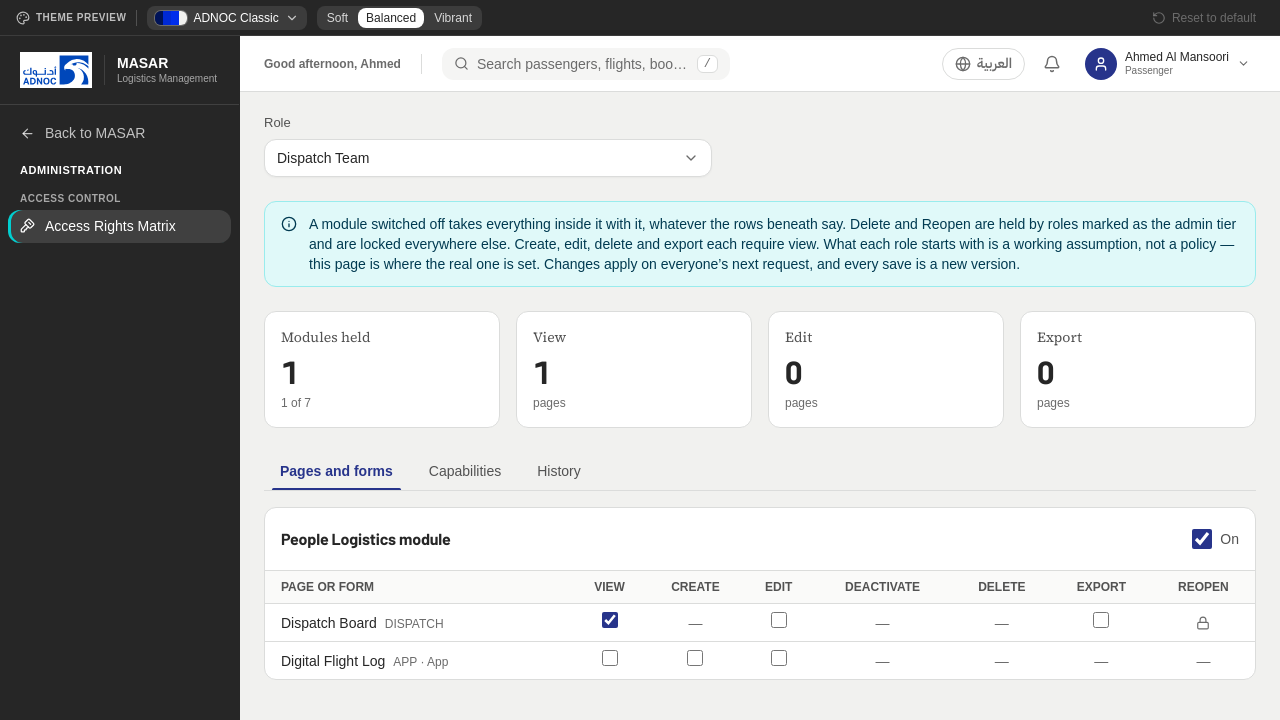
Test case: BRD-D.2.1.3-MST the Access Rights Matrix page (spec 10 §2.3) › PROMPT-2.7 any right brings View; a save sends the matrix version
(page scrolled)
Click the checkbox named "Edit: Digital Flight Log" at [779, 658], box 771,650 -> 787,666
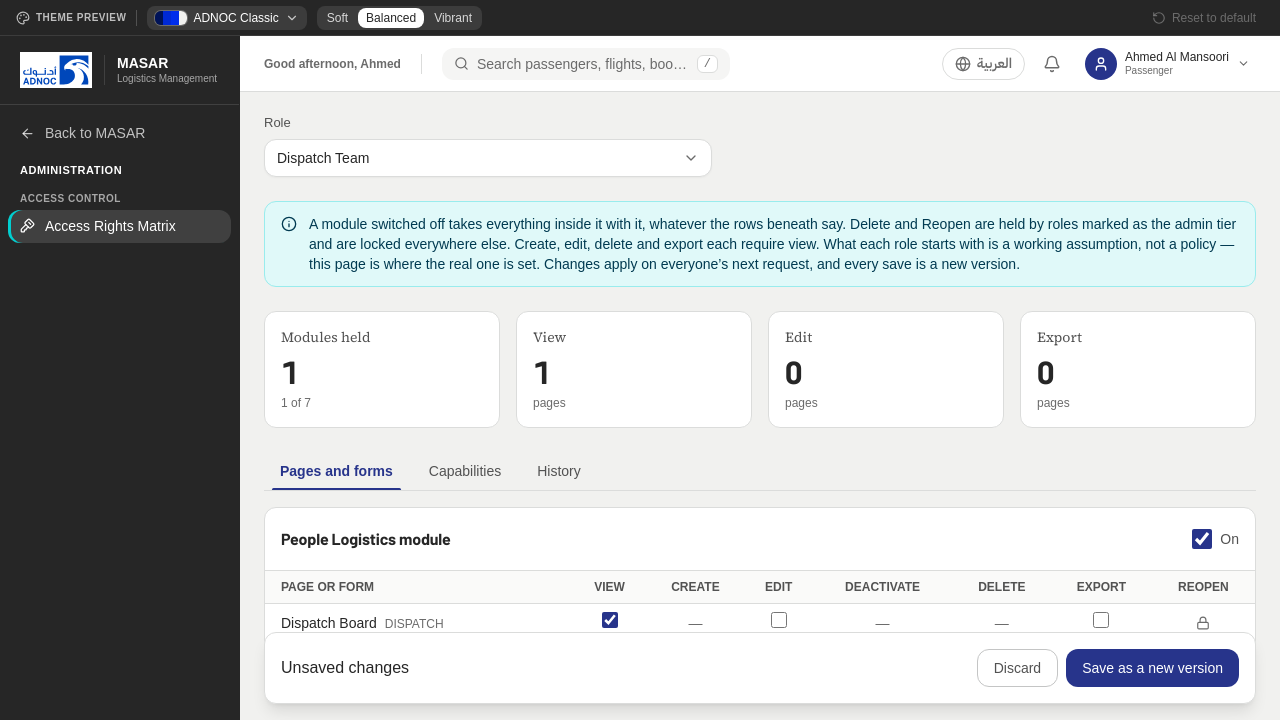
Click the switch named "People Logistics module switched on" at [1202, 539], box 1192,529 -> 1212,549
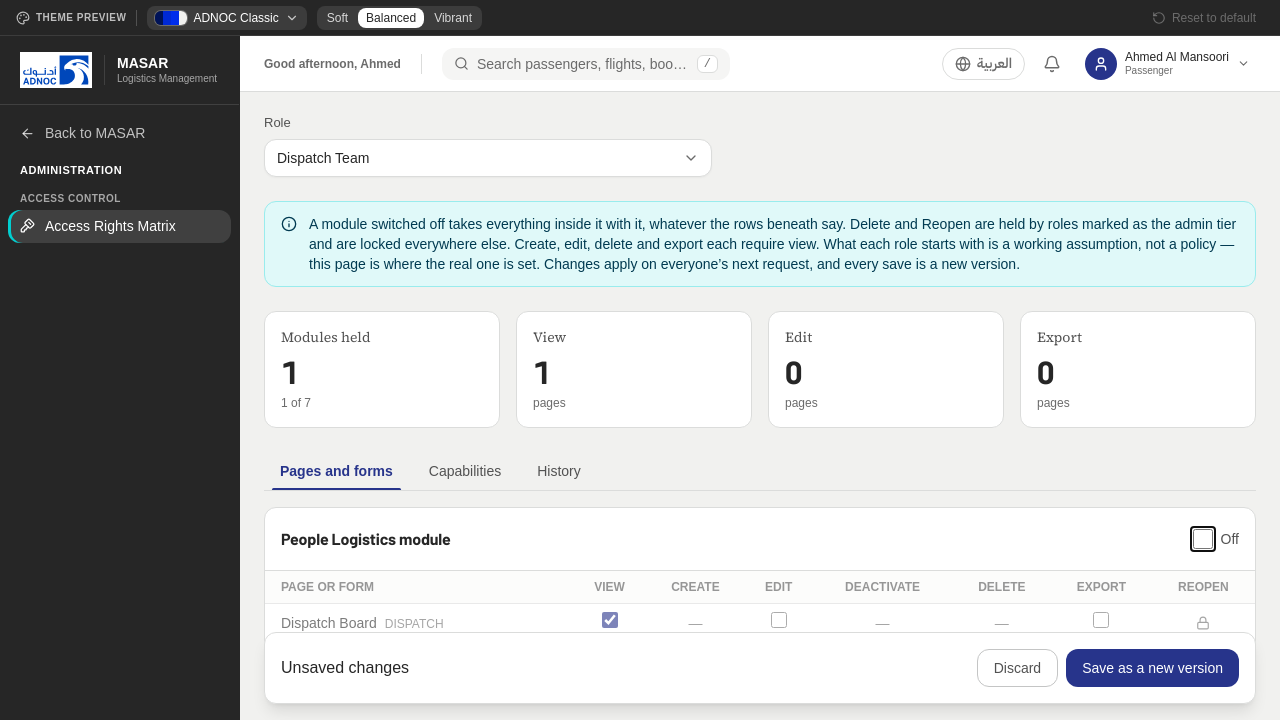
Click the button "Save as a new version" at [1153, 668], box 1066,649 -> 1239,687
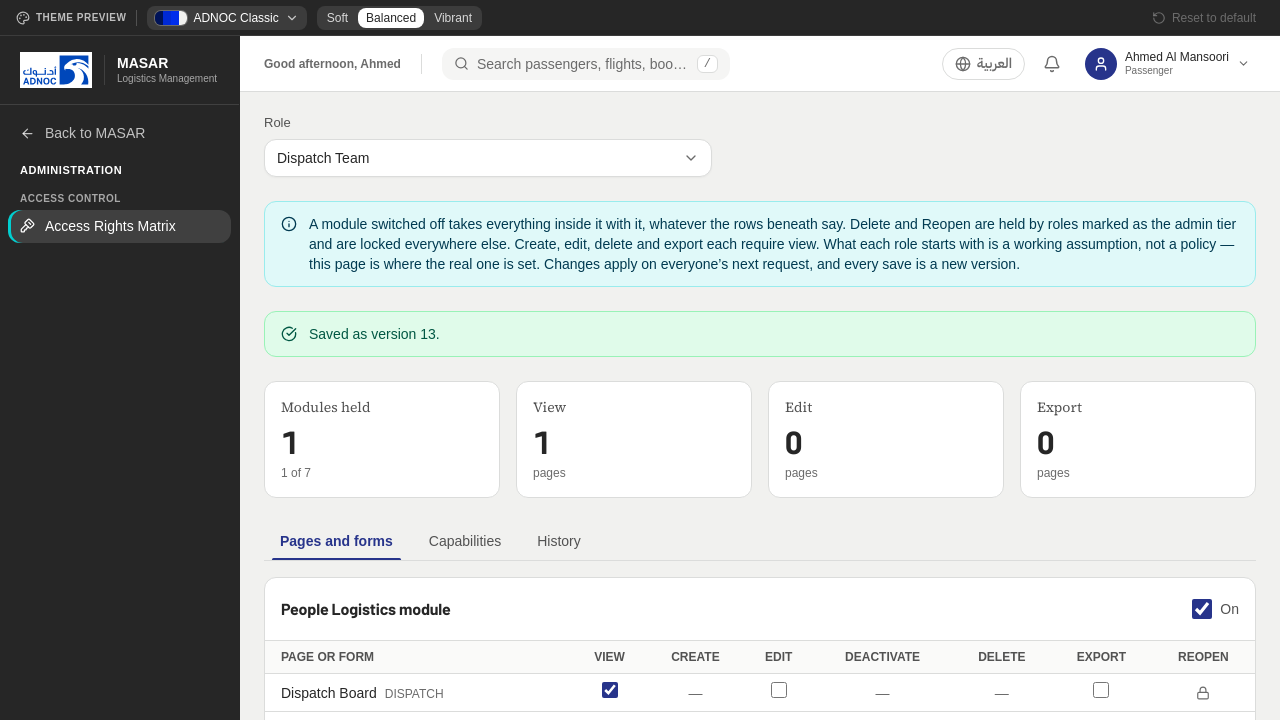
expect the text "Saved as version 13." is shown: met, box 309,326 -> 440,342
